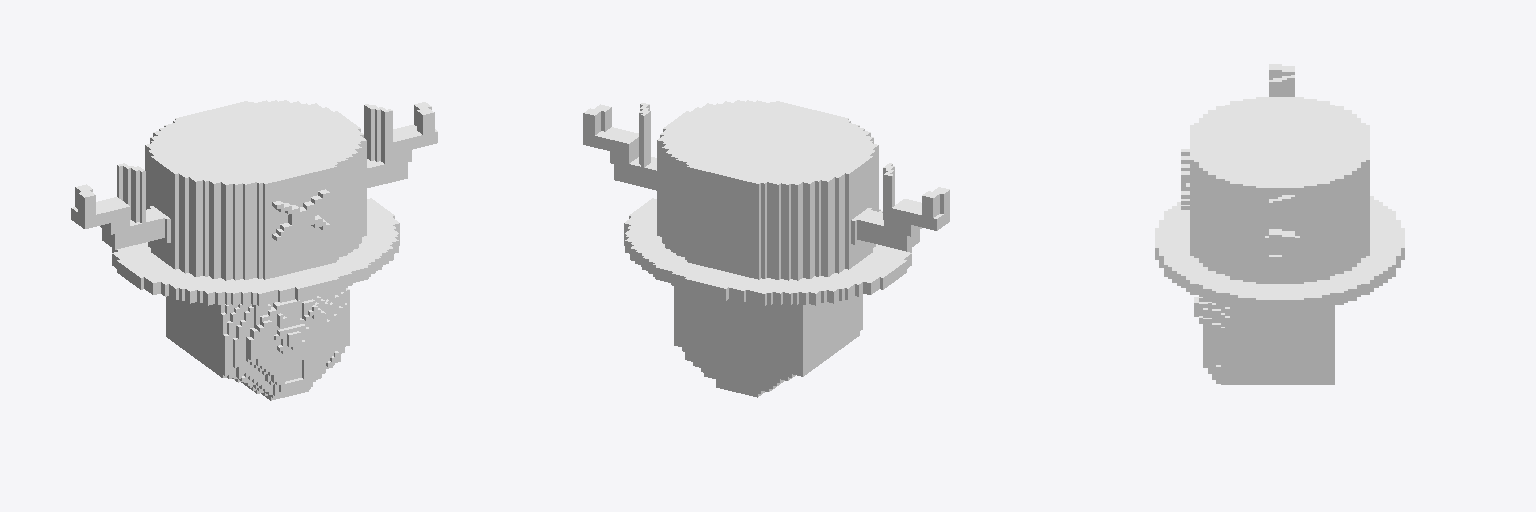
File: chopper.obj
The picture shows the model from 3 angles: view 1: azimuth 30°, elevation 25°; view 2: azimuth 150°, elevation 25°; view 3: azimuth 270°, elevation 25°; orthographic projection.
Visible parts, largest first — view 1: object 1; view 2: object 1; view 3: object 1.
Part boxes in pixels (x1,y1,x2,y2): object 1: (71,100,437,400); object 1: (583,100,949,397); object 1: (1155,64,1404,384).
Size of the model in its own units: 9.3 by 5.9 by 5.7.